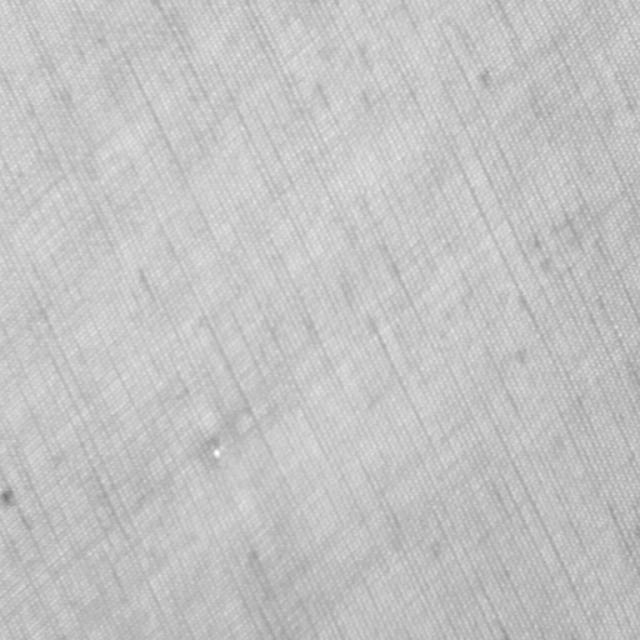hole: (208, 440, 224, 464)
